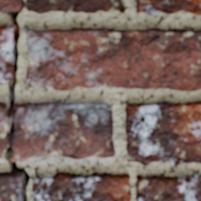brick: (26, 28, 200, 90), (126, 100, 200, 165), (32, 172, 130, 200), (136, 175, 200, 200), (26, 0, 124, 13), (137, 0, 200, 14), (0, 26, 14, 83), (0, 172, 21, 200), (0, 0, 21, 12)
broken_brick: (12, 101, 115, 161), (0, 101, 6, 153)
crack: (0, 0, 30, 200), (107, 104, 112, 108)
